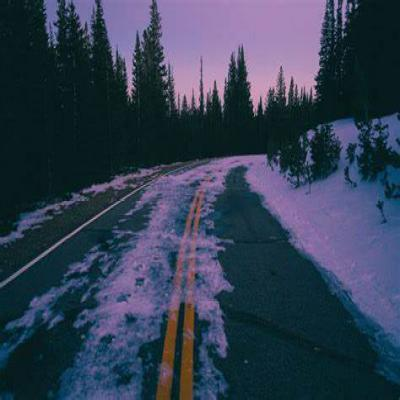iced-road: (0, 159, 240, 400)
